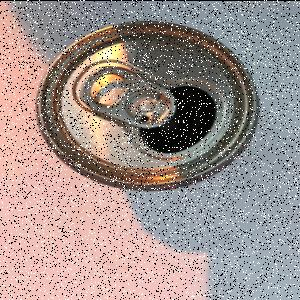Can: (34, 21, 260, 193)
